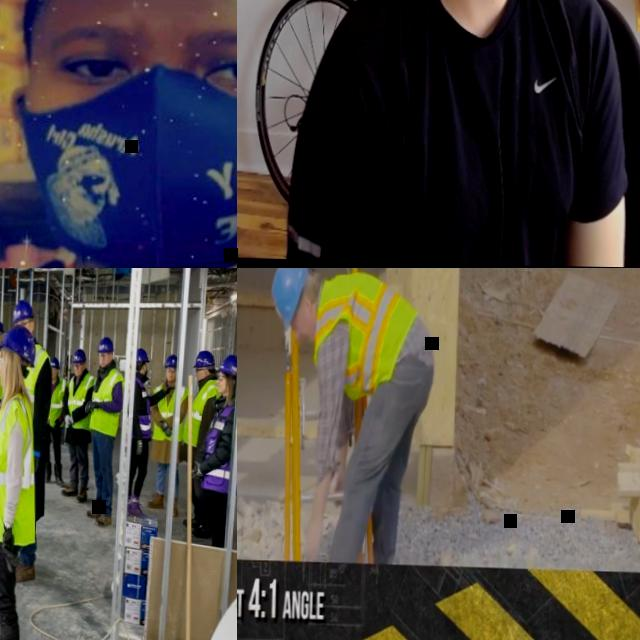helmet: (271, 268, 314, 337), (0, 323, 38, 369), (12, 299, 36, 325), (216, 353, 237, 377), (194, 350, 216, 367), (96, 336, 115, 353), (72, 348, 88, 364), (138, 348, 152, 363), (166, 354, 178, 368), (51, 356, 62, 371), (0, 320, 7, 334), (66, 354, 74, 359)
mask: (14, 63, 237, 268), (144, 364, 149, 376)
no_mask: (302, 307, 316, 343), (218, 381, 227, 394), (100, 359, 112, 368), (166, 373, 176, 382), (197, 374, 205, 384), (0, 369, 4, 387), (76, 369, 84, 377), (53, 374, 58, 379), (0, 339, 2, 347)
no_vest: (353, 0, 581, 267)
person: (285, 0, 640, 268), (0, 0, 237, 268), (268, 268, 438, 568), (0, 321, 43, 640), (7, 298, 55, 582), (191, 352, 237, 548), (82, 336, 126, 526), (127, 347, 174, 522), (184, 350, 222, 538), (148, 353, 190, 518), (62, 348, 96, 504), (45, 355, 70, 488), (0, 318, 7, 414), (64, 354, 76, 379)
vest: (314, 272, 419, 394), (0, 390, 39, 544), (201, 401, 237, 495), (184, 378, 222, 447), (90, 368, 126, 438), (22, 342, 52, 424), (153, 383, 189, 441), (67, 372, 96, 432), (134, 376, 154, 442), (48, 377, 70, 428), (0, 349, 5, 399), (64, 362, 72, 380)
